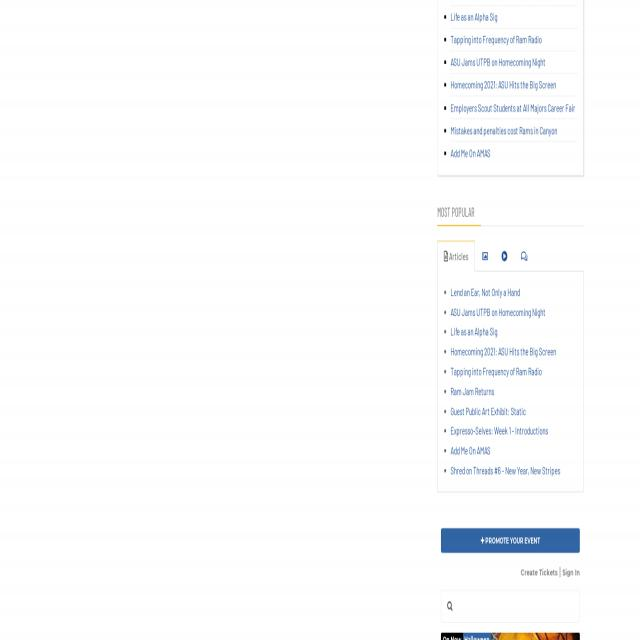button: (441, 527, 580, 554), (437, 240, 474, 269), (476, 242, 494, 270), (516, 244, 532, 270), (497, 243, 512, 270)
field: (441, 589, 580, 624)
